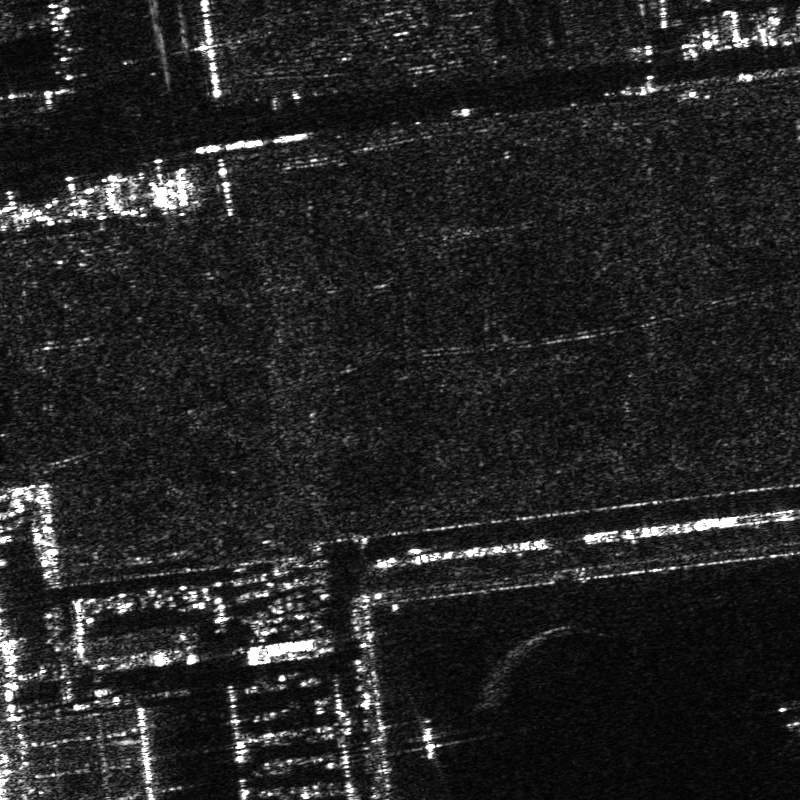A220: (768, 703, 799, 761)
